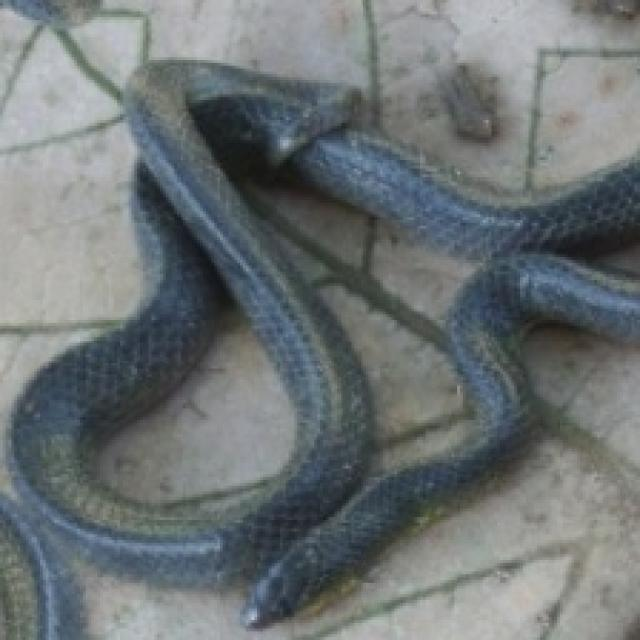gunthers philippine shrub snake: (9, 60, 637, 637)
